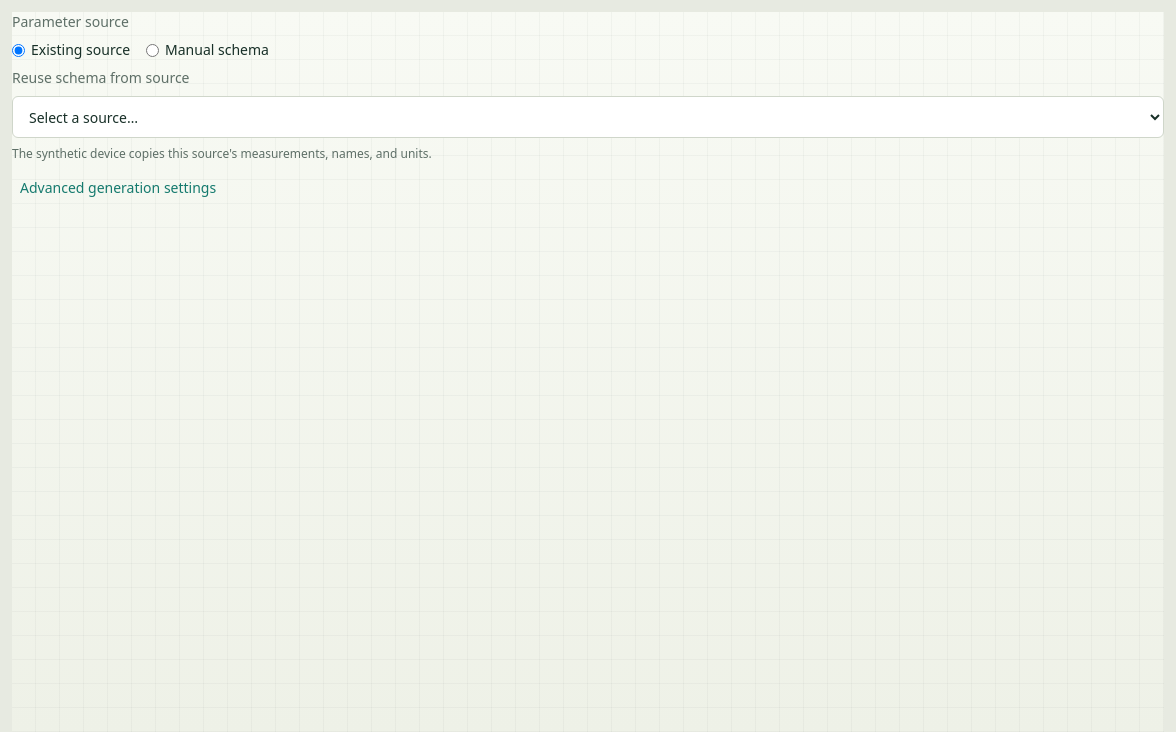
it: SyntheticProfileStep — Pattern select progressive disclosure (UI-483) › reveals the advanced options after clicking Show more patterns
Select "Source 1" in the dropdown labelled "Reuse schema from source". click: (588, 117)
box: left=12, top=96, right=1164, bottom=138
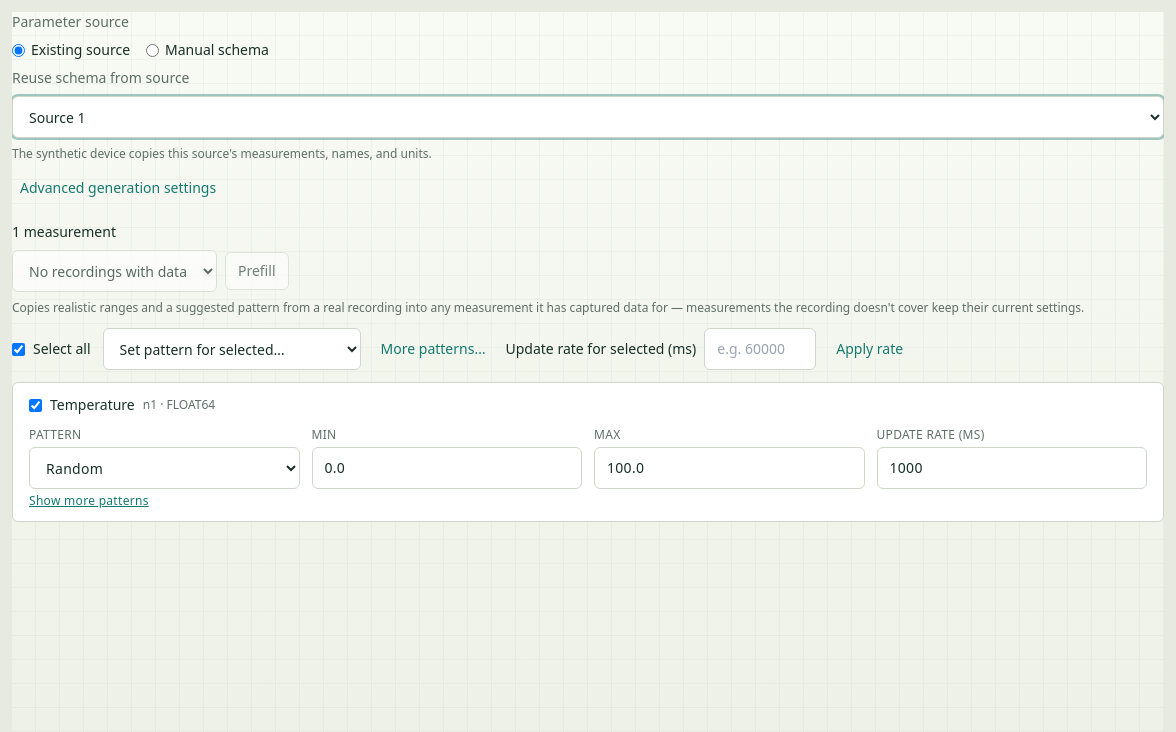
Check: the dropdown labelled "Pattern Show more patterns" is shown, box left=29, top=447, right=300, bottom=489
Click the button "Show more patterns". click: (89, 500)
box: left=29, top=493, right=300, bottom=509
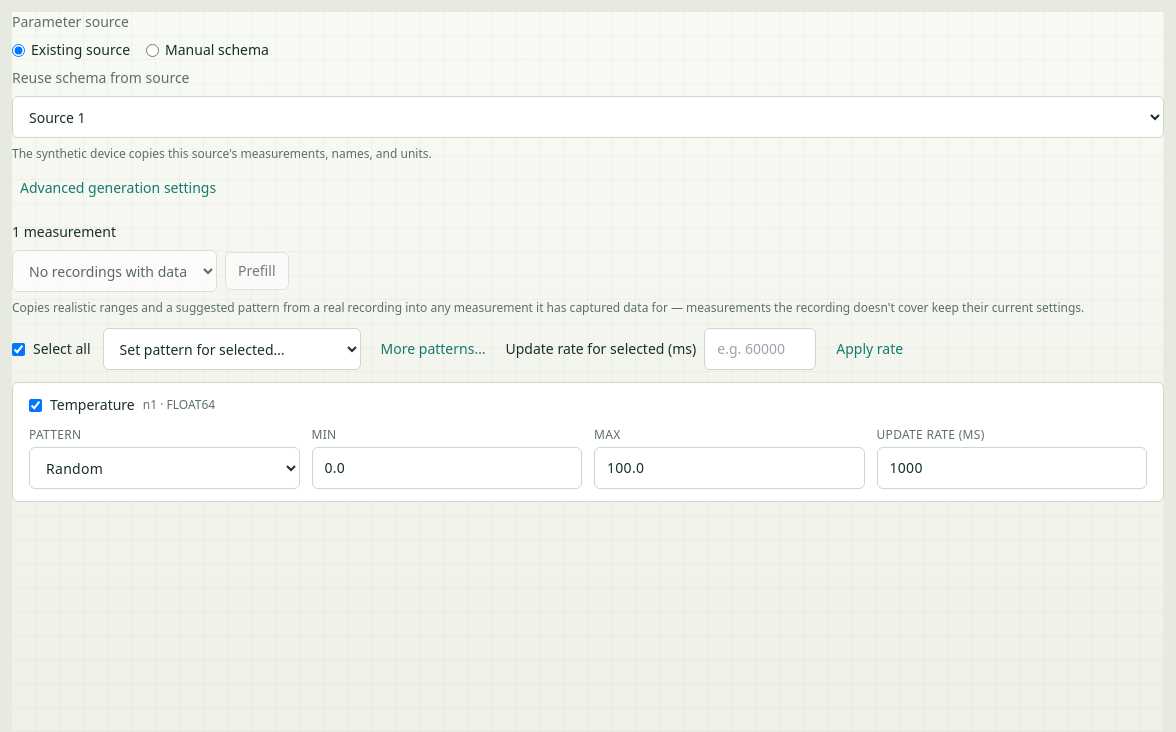
Check: the button "Show more patterns" is gone
